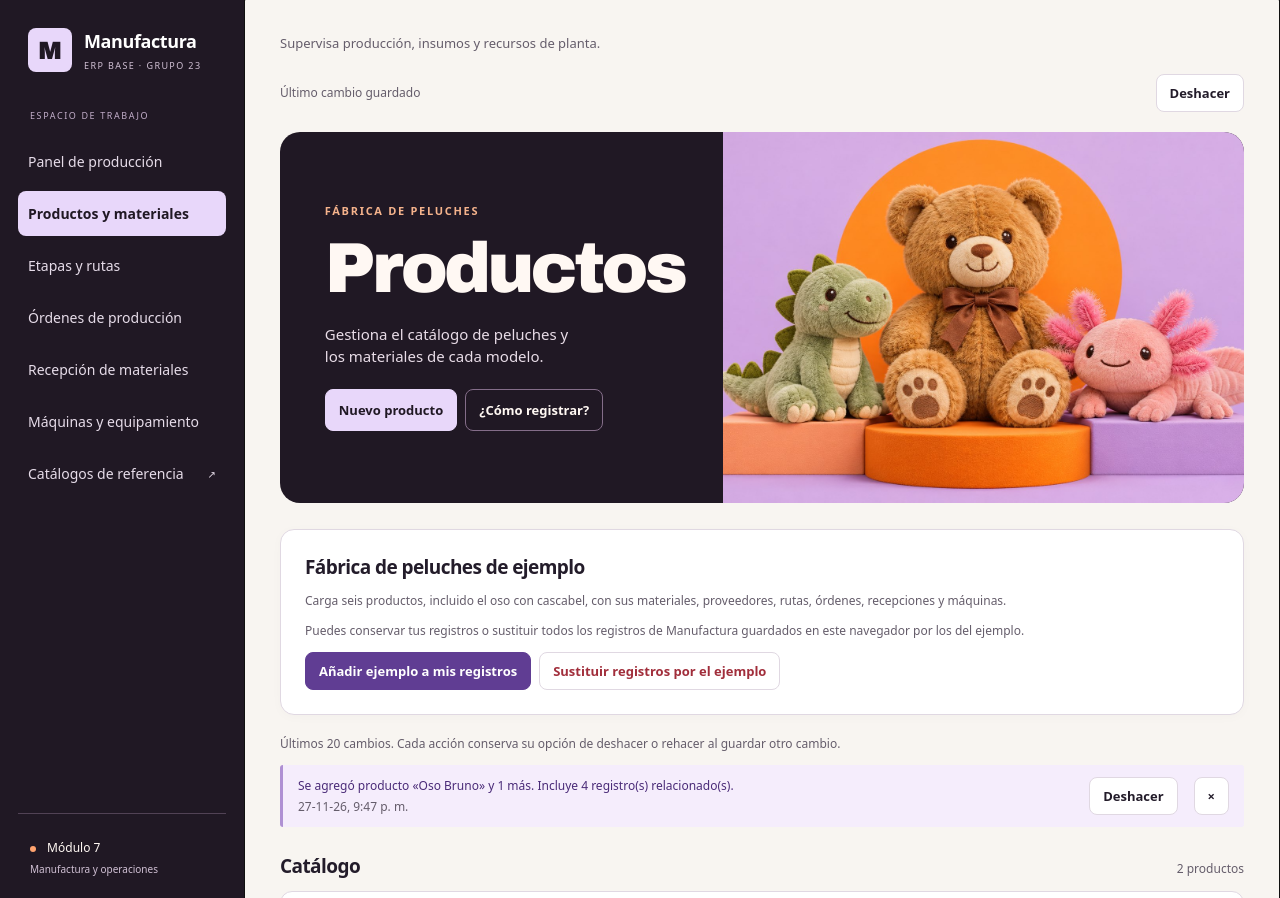
Test case: conserva las perspectivas de los roles y no expone métricas globales a ensamble
(page scrolled)
Step 1. Click the button with aria-label "Panel de producción" → (122, 162), box [18,139,226,184]
(page scrolled)
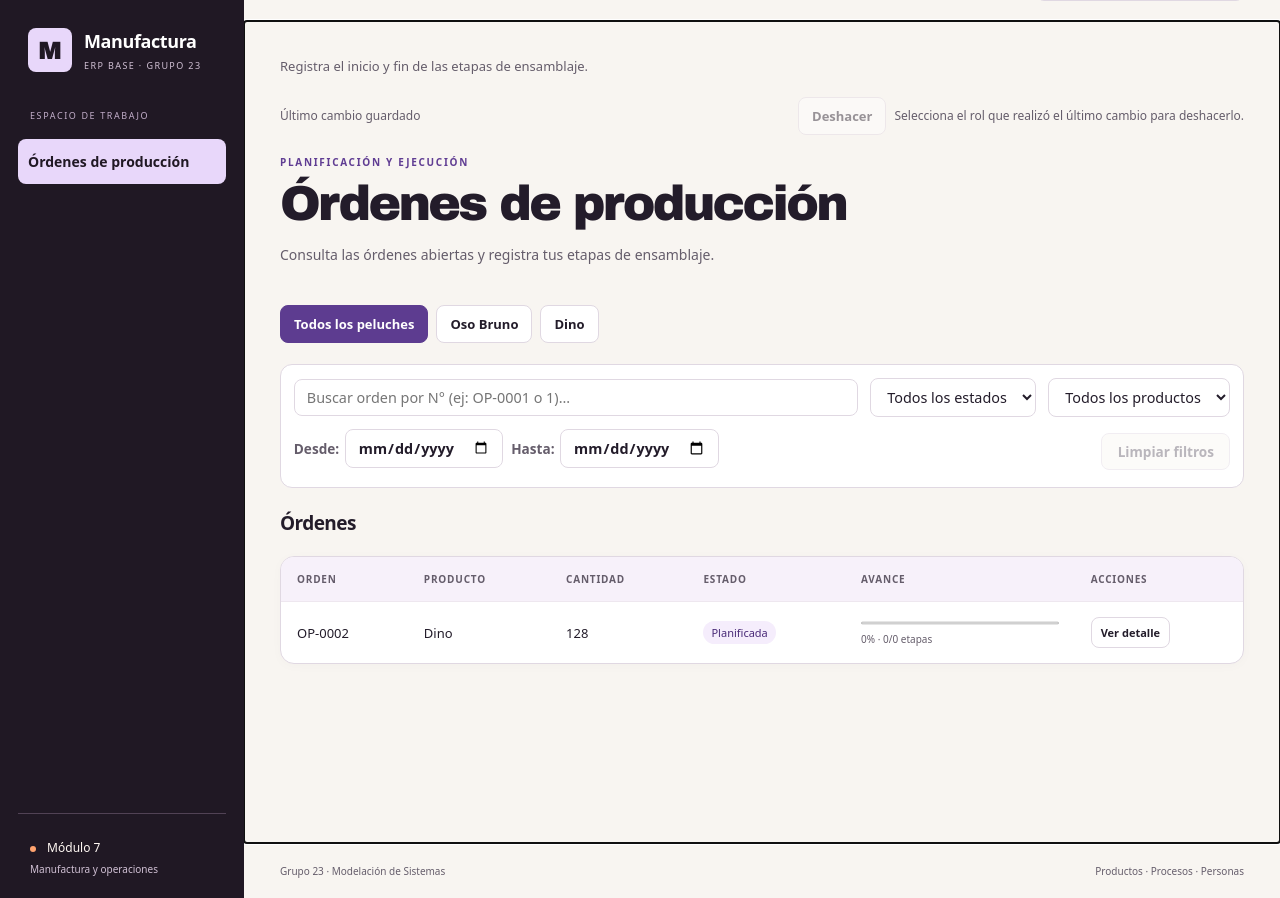
Expected: the heading "Órdenes de producción" is shown, [280,178,846,230]
